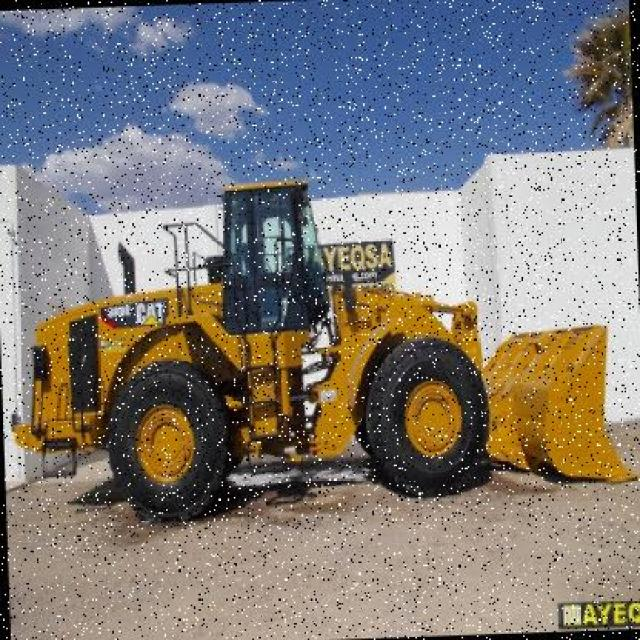buldozerpayloadergrader: (4, 163, 640, 520)
